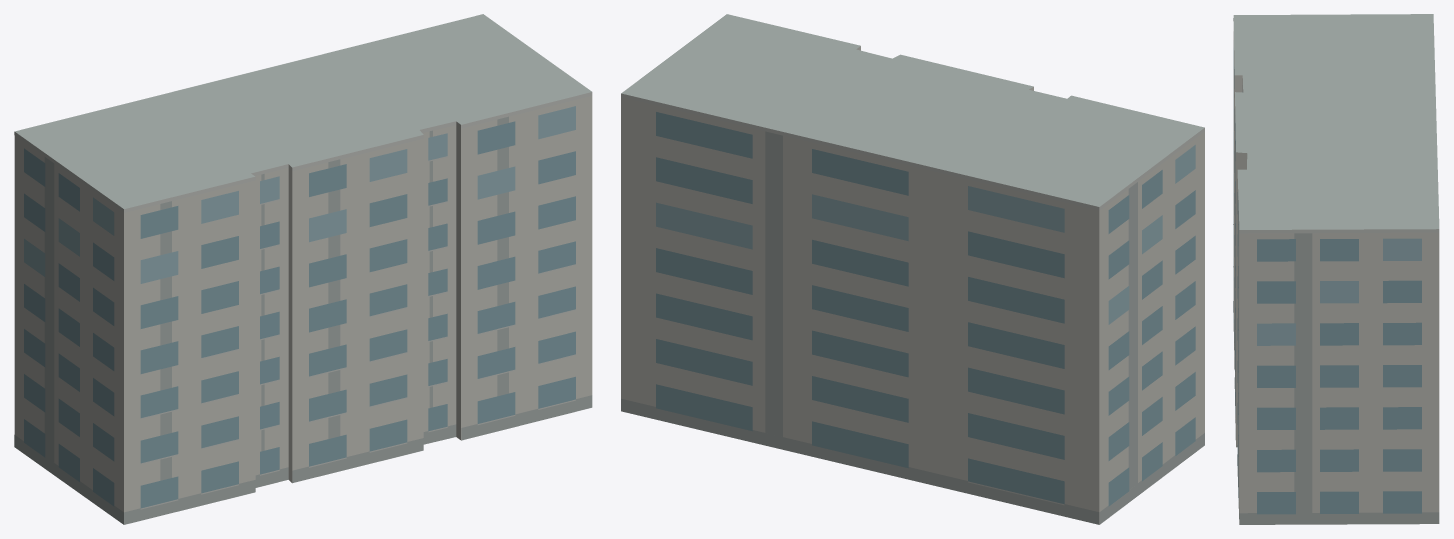
The model's file is survey-upis-33010375.glb.
3 renders of one model, left to right at view 1: azimuth 30°, elevation 25°; view 2: azimuth 150°, elevation 25°; view 3: azimuth 270°, elevation 25°, orthographic. The views are drawn at different scales.
Parts seen in each view (by area): view 1: survey-upis-33010375.tmp; view 2: survey-upis-33010375.tmp; view 3: survey-upis-33010375.tmp.
Part boxes in pixels (x1,y1,x2,y2): survey-upis-33010375.tmp: (14,14,592,524); survey-upis-33010375.tmp: (621,14,1204,524); survey-upis-33010375.tmp: (1233,14,1439,524).
Size of the model in its own units: 32.52 by 20.69 by 13.11.
